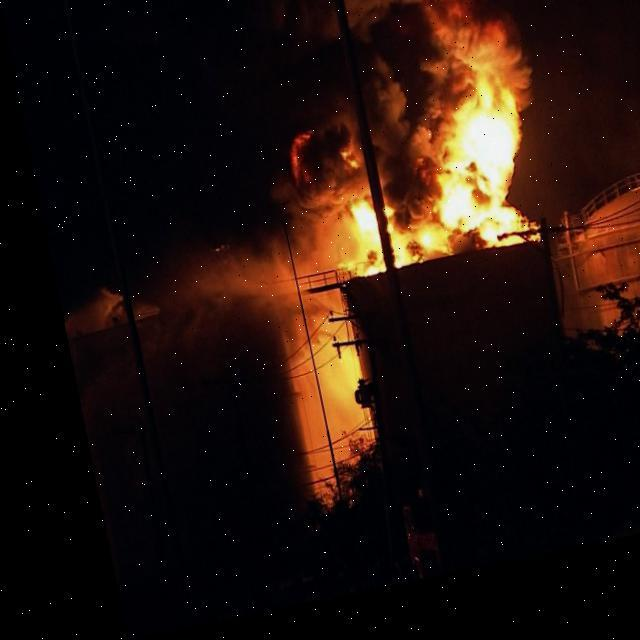Fire: (353, 99, 538, 281), (264, 307, 360, 514), (319, 206, 372, 288)
